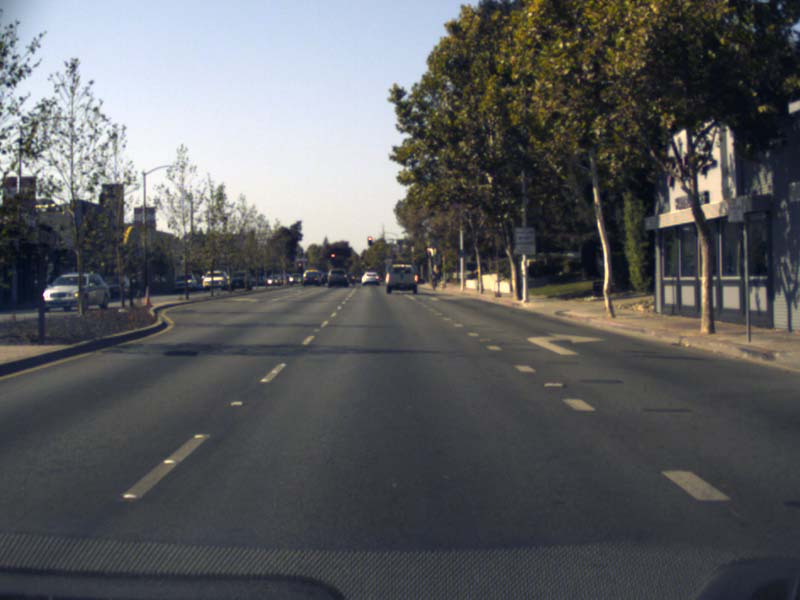Red: (328, 252, 336, 259), (367, 235, 372, 245)
Yellow: (297, 261, 302, 272)
